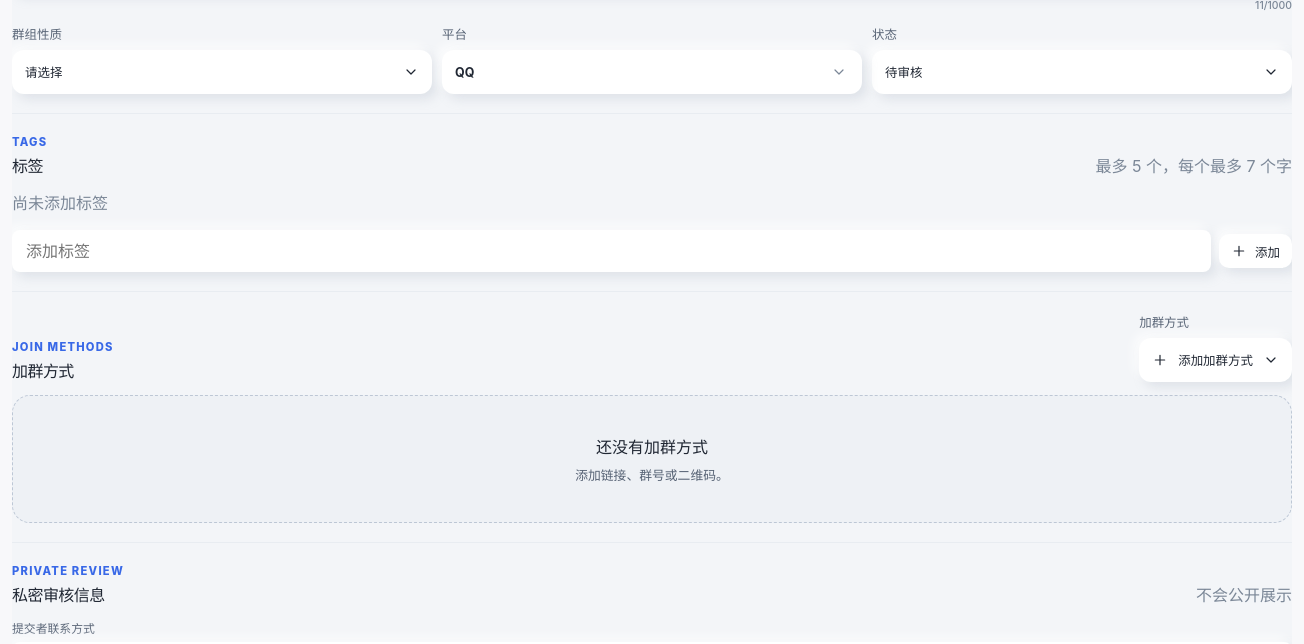
Test: AdminEditForm 加群方式多选下拉 › 点击未勾选的加群方式时添加并保持菜单展开，再次点击移除
(page scrolled)
Click the dropdown named "加群方式": point(1216, 360) [1139, 338, 1292, 382]
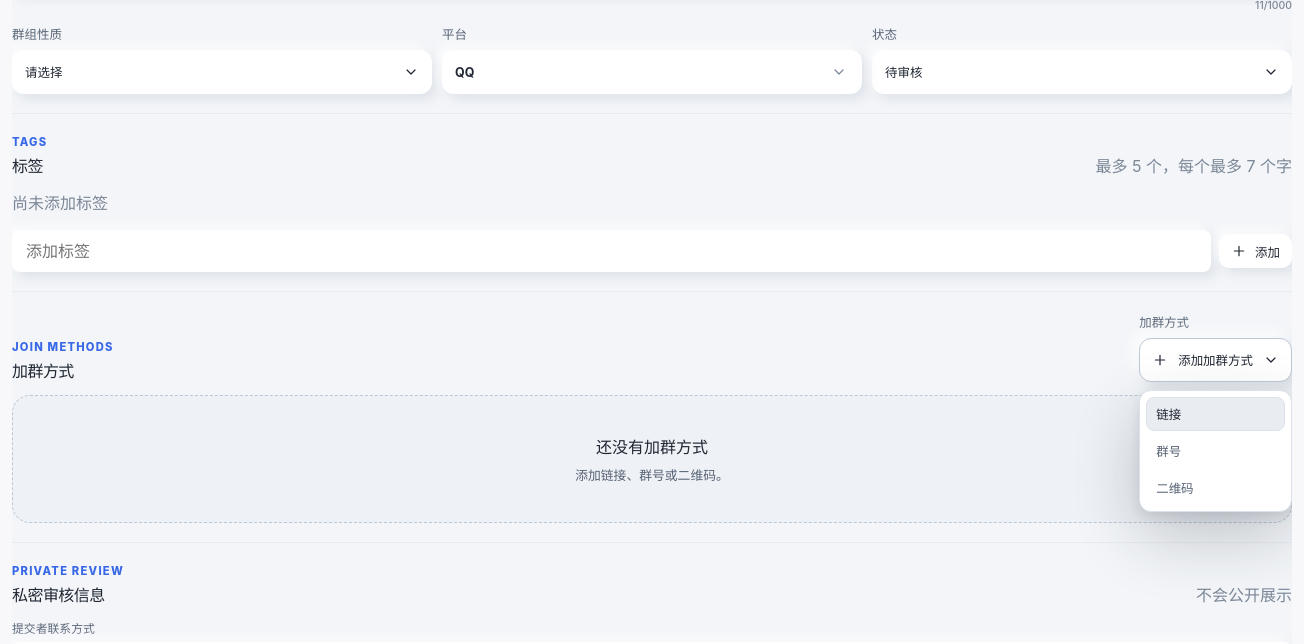
Click the option with class "app-select__option" showing "群号": point(1216, 451) [1146, 434, 1285, 468]
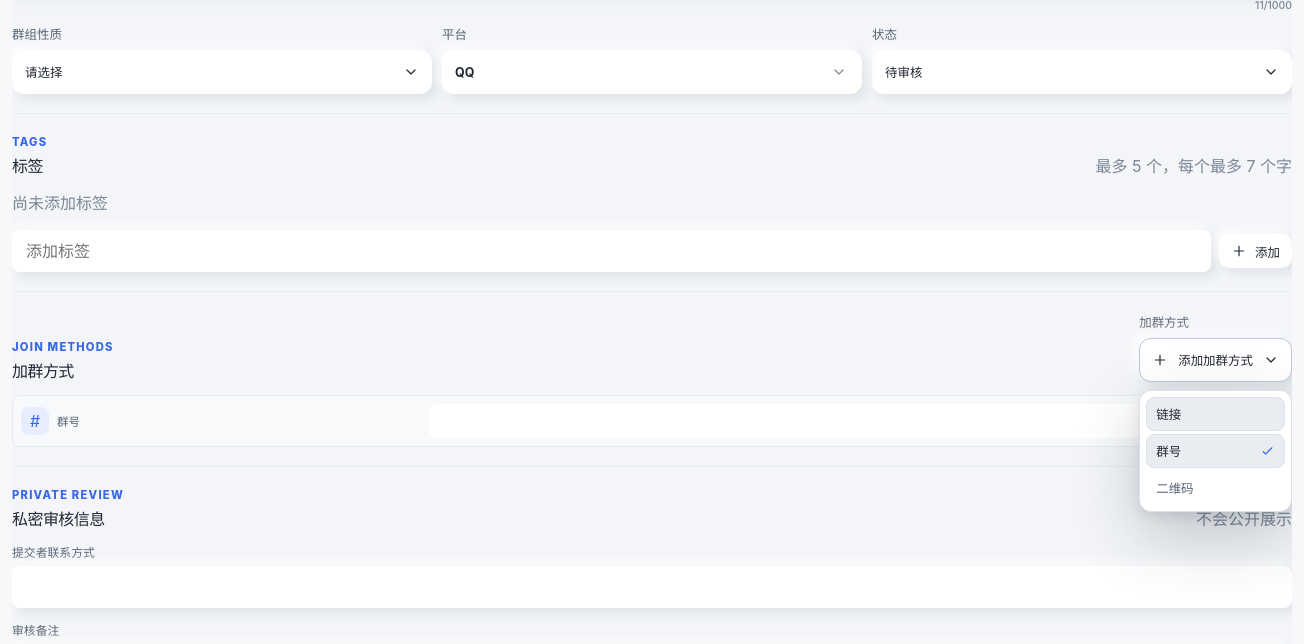
Now the list with class "app-select__menu" is shown, box [1139, 390, 1292, 512]
Now the number of elements with class "admin-edit-join-row" is 1, box [12, 395, 1292, 447]
Now the icon with class "app-select__check" is shown, box [1260, 444, 1275, 458]
Click the option with class "app-select__option" showing "群号": point(1216, 451) [1146, 434, 1285, 468]
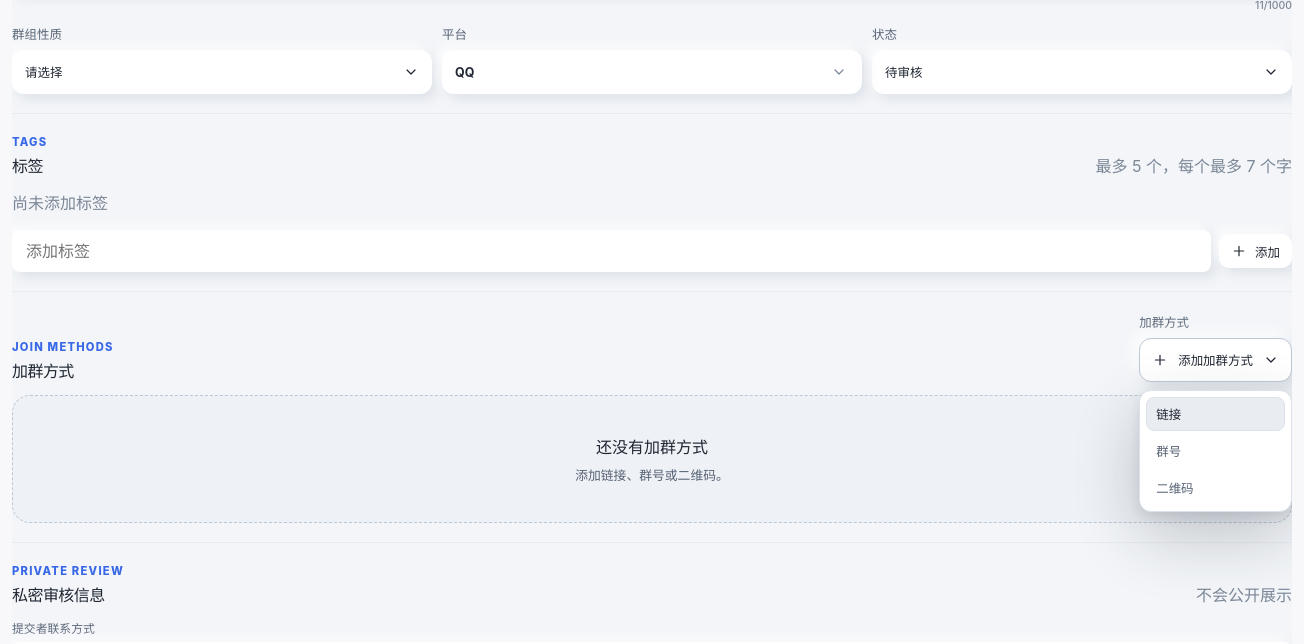
Now no elements with class "admin-edit-join-row" are shown
